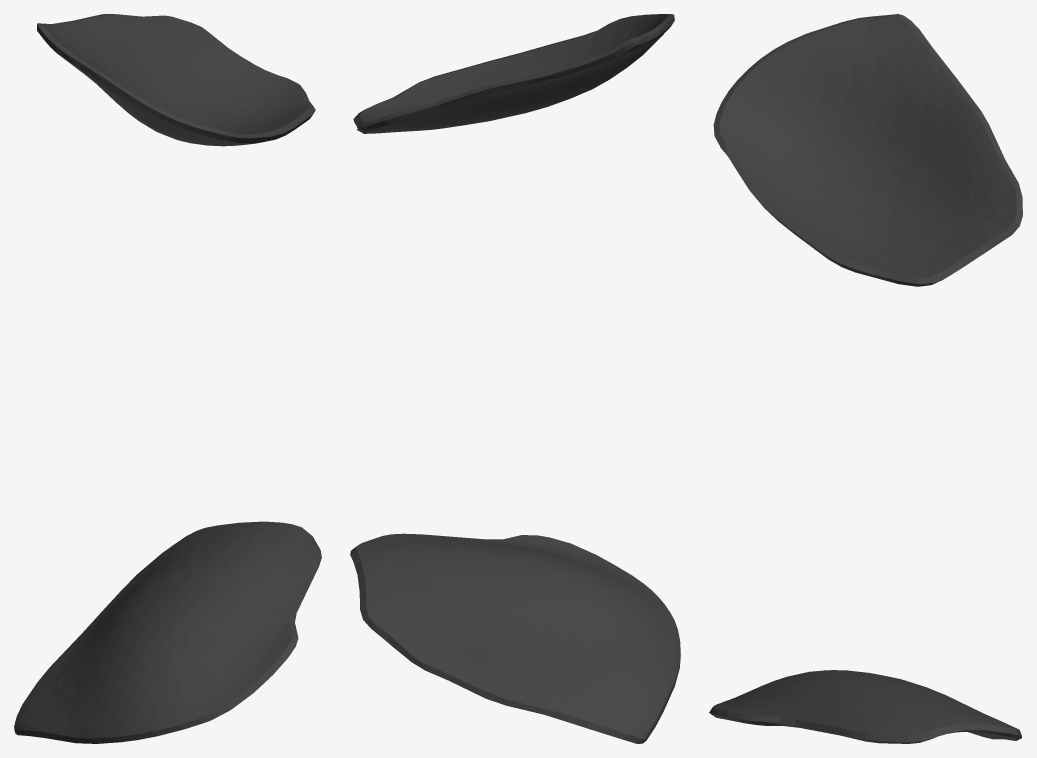
File: Pelvis_gluteal_surface.glb
3 views of the same model, side by side, from view 1: azimuth 30°, elevation 25°; view 2: azimuth 150°, elevation 25°; view 3: azimuth 270°, elevation 25° (orthographic). The views are drawn at different scales.
Parts seen in each view (by area): view 1: Pelvis_gluteal_surface; view 2: Pelvis_gluteal_surface; view 3: Pelvis_gluteal_surface.
Boxes of the visible parts, left/top/right/bottom form: Pelvis_gluteal_surface: left=14, top=14, right=321, bottom=743; Pelvis_gluteal_surface: left=350, top=14, right=680, bottom=743; Pelvis_gluteal_surface: left=709, top=14, right=1022, bottom=743.
Bounding box in the file's own units: 1.99 × 4.58 × 1.81.
Materials: 1 (1 with a texture image).
